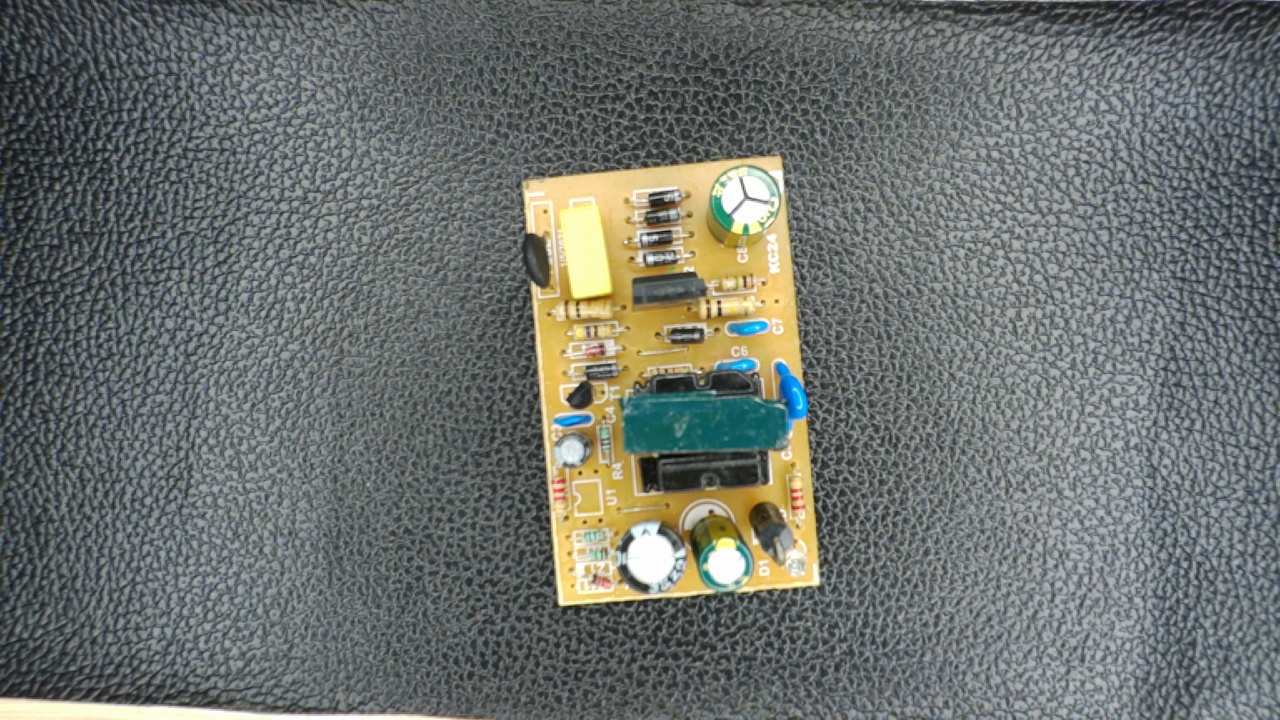fuse: (516, 222, 561, 296)
hv_capacitor: (705, 165, 783, 248)
mov: (767, 351, 809, 434)
